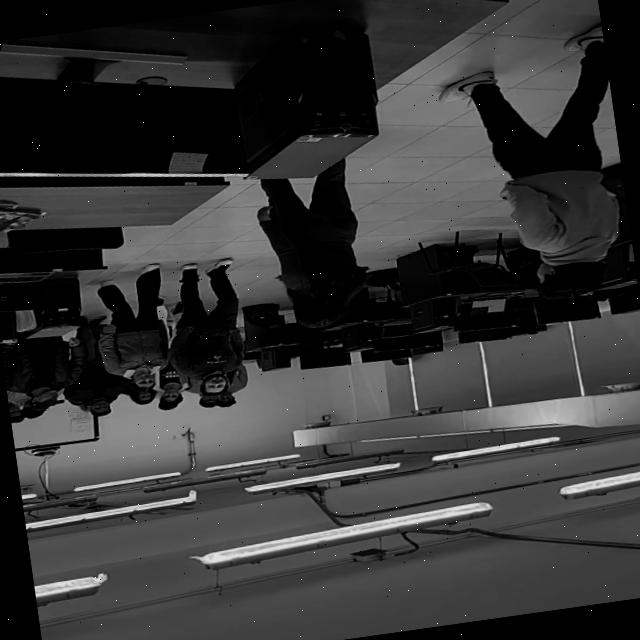Persona: (456, 25, 640, 314), (248, 154, 385, 338), (162, 252, 262, 400), (91, 259, 186, 400), (59, 309, 130, 422), (5, 334, 76, 416)
